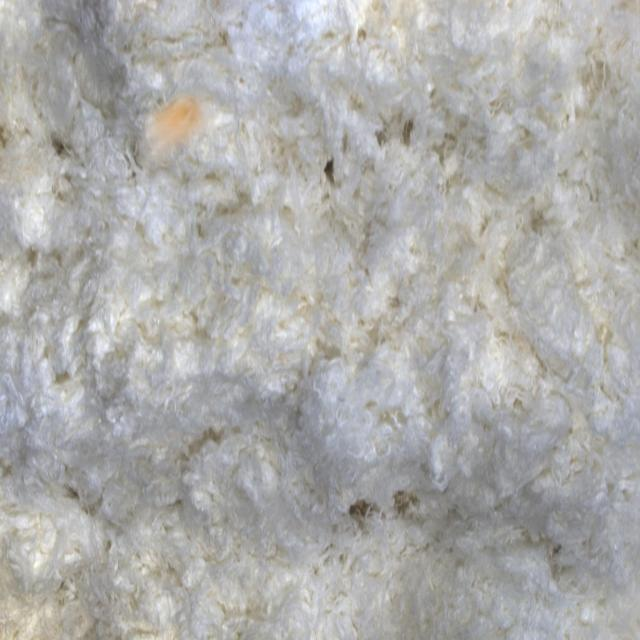dust: (137, 90, 220, 191)
